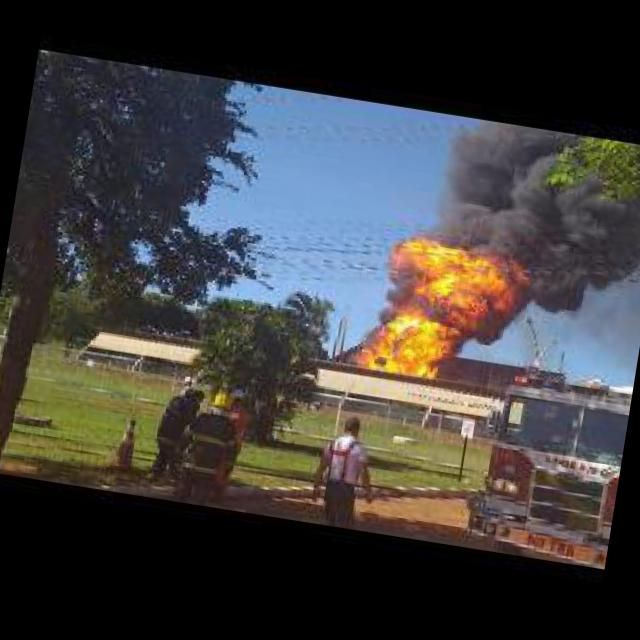fire: (350, 216, 532, 390)
smoke: (416, 110, 640, 287)
